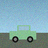vehicle: (10, 25, 36, 42)
